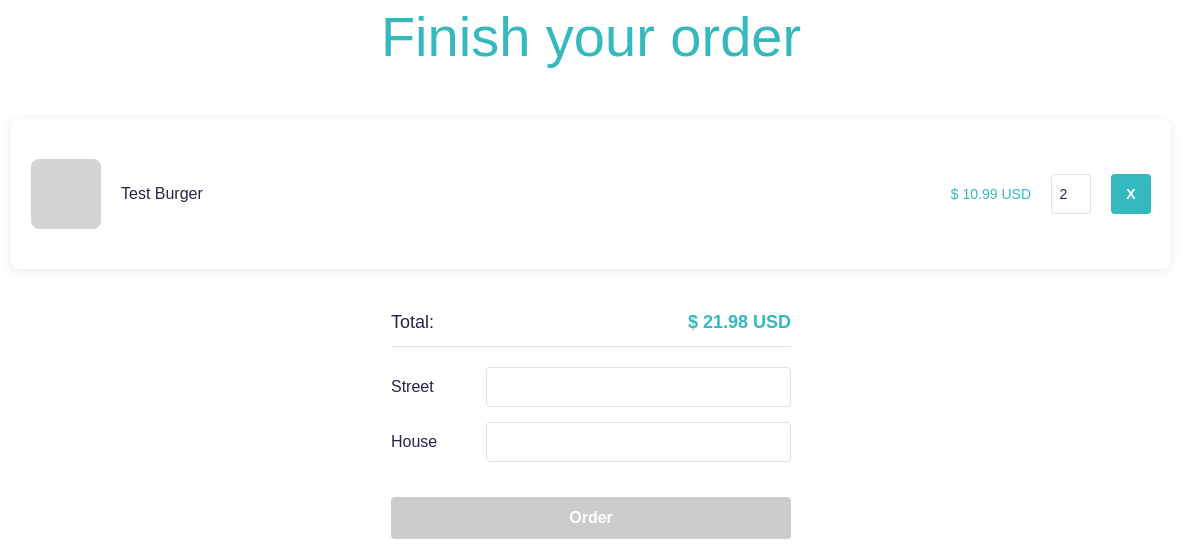
OrderSection › removes item from cart when remove button is clicked
This screenshot has width=1183, height=556.
Expected: the heading "Test Burger" is shown, [121,185,203,202]
Click the button "X" at (1131, 194), box [1111,174,1151,214]
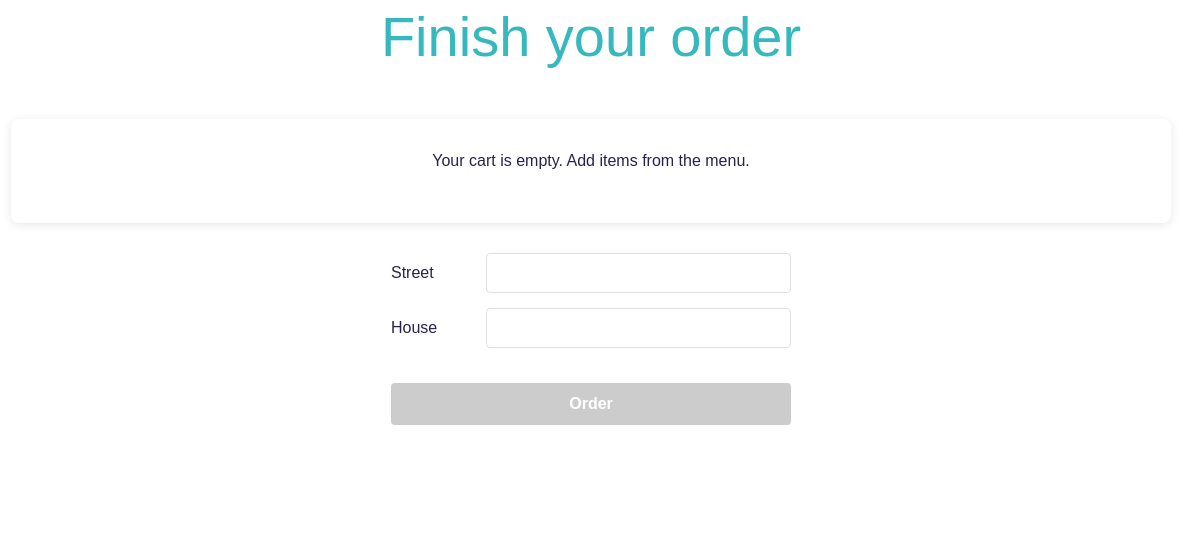
Result: the heading "Test Burger" is gone
Result: the text "Your cart is empty. Add items from the menu." is shown at [432,152,750,169]
